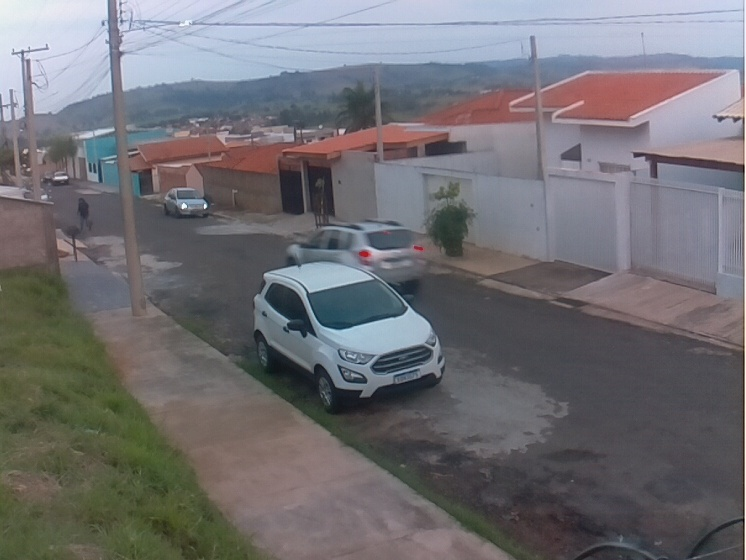person: (76, 196, 94, 233)
